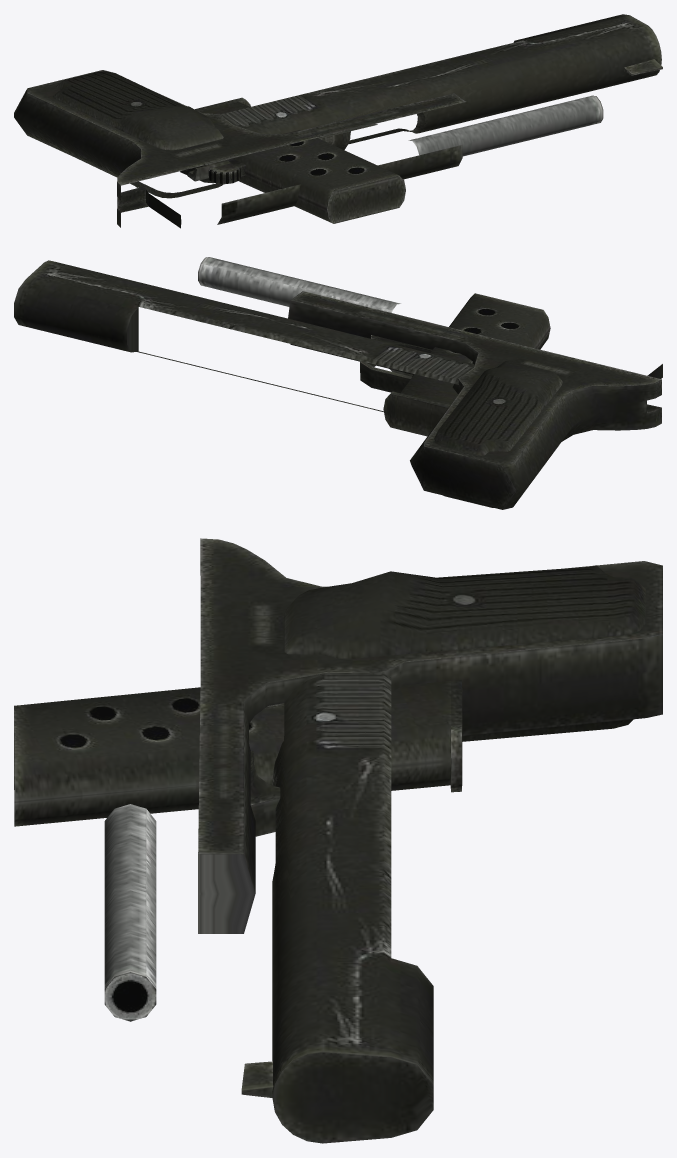
The model's file is viewmodel_tokarev.glb.
3 views of the same model, one above another, from view 1: azimuth 30°, elevation 25°; view 2: azimuth 150°, elevation 25°; view 3: azimuth 270°, elevation 25° (orthographic). The views are drawn at different scales.
Size of the model in its own units: 10.05 by 1.15 by 5.37.
Materials: 1 (1 with a texture image).
